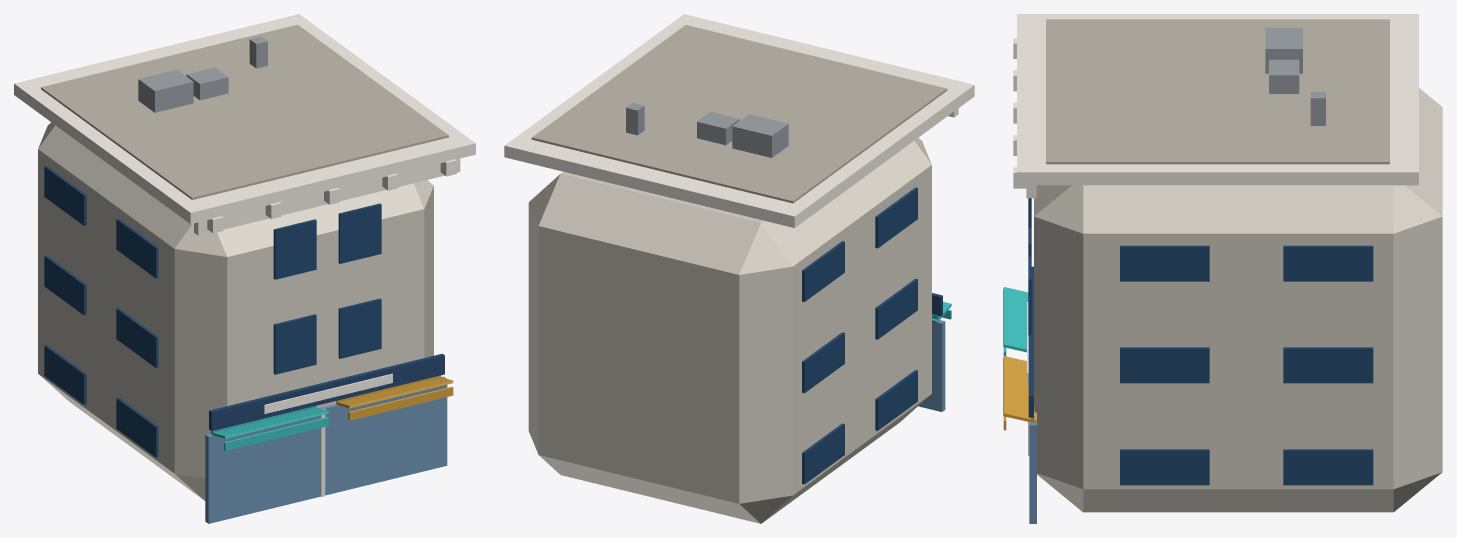
File: mixed_w10_f3_punched.glb
3 views of the same model, side by side, from view 1: azimuth 30°, elevation 25°; view 2: azimuth 150°, elevation 25°; view 3: azimuth 270°, elevation 25° (orthographic). The views are drawn at different scales.
Parts seen in each view (by area): view 1: walls, roofslab, shopglass, corn, fascia, frieze, win.001, win, win.002, win.003, hvac, sb (+12 smaller); view 2: walls, roofslab, corn, hvac, sb.002, sb.006, sb.004, sb.008, sb.010, sb, shopglass, hvac2 (+1 smaller); view 3: walls, roofslab, corn, sb.003, sb.007, sb.011, sb.001, sb.005, sb.009, awn.001, awn, hvac (+4 smaller).
Boxes of the visible parts, <box> form: walls: <box>38,122,433,500</box>; roofslab: <box>41,24,448,199</box>; shopglass: <box>205,376,447,523</box>; corn: <box>14,14,475,223</box>; fascia: <box>209,353,444,431</box>; frieze: <box>194,158,460,235</box>; win.001: <box>338,298,381,358</box>; win: <box>273,314,316,374</box>; win.002: <box>273,219,316,279</box>; win.003: <box>338,203,381,263</box>; hvac: <box>138,69,193,112</box>; sb: <box>116,397,158,457</box>; walls: <box>528,138,931,523</box>; roofslab: <box>531,25,947,203</box>; corn: <box>504,14,974,227</box>; hvac: <box>732,114,788,157</box>; sb.002: <box>802,423,844,484</box>; sb.006: <box>802,332,844,393</box>; sb.004: <box>875,278,917,339</box>; sb.008: <box>875,187,917,248</box>; sb.010: <box>802,241,844,301</box>; sb: <box>875,370,917,430</box>; shopglass: <box>918,320,945,411</box>; hvac2: <box>697,111,739,145</box>; walls: <box>1034,88,1442,512</box>; roofslab: <box>1046,19,1389,164</box>; corn: <box>1017,14,1418,185</box>; sb.003: <box>1283,449,1373,485</box>; sb.007: <box>1283,347,1373,383</box>; sb.011: <box>1283,245,1373,281</box>; sb.001: <box>1120,449,1209,485</box>; sb.005: <box>1120,347,1209,383</box>; sb.009: <box>1120,245,1209,281</box>; awn.001: <box>1003,356,1036,422</box>; awn: <box>1003,287,1028,352</box>; hvac: <box>1265,27,1302,73</box>.
Size of the model in its own units: 11 by 12.8 by 12.91.
